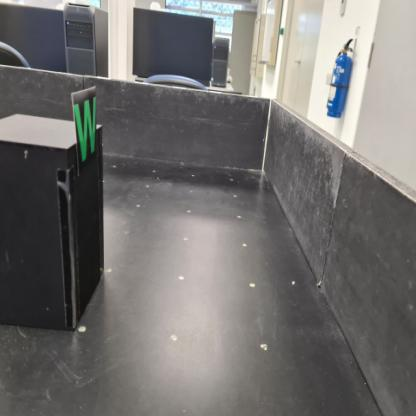w: (71, 84, 97, 177)
